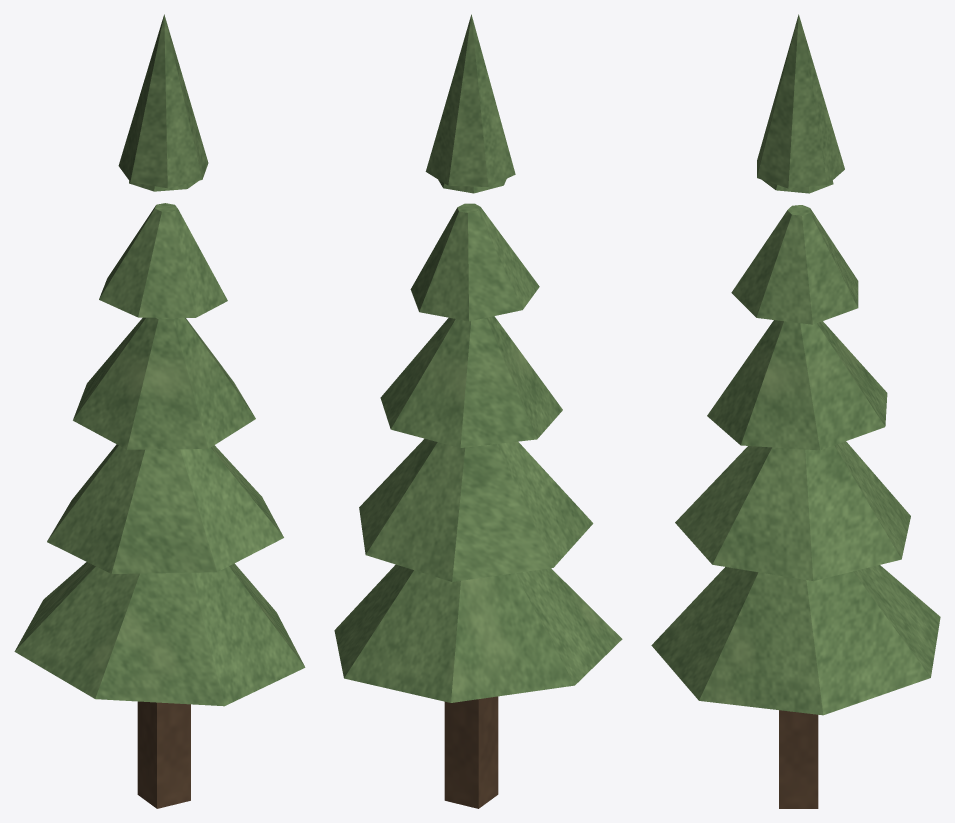
Rendered from pine.glb.
3 views of the same model, side by side, from view 1: azimuth 30°, elevation 25°; view 2: azimuth 150°, elevation 25°; view 3: azimuth 270°, elevation 25° (orthographic).
Visible parts, largest first — view 1: Pine; view 2: Pine; view 3: Pine.
Part boxes in pixels (left/top/right/bottom): Pine: left=14, top=14, right=305, bottom=808; Pine: left=334, top=14, right=622, bottom=808; Pine: left=651, top=14, right=940, bottom=808.
Size of the model in its own units: 0.8155 by 2.43 by 0.8094.
4 materials, 4 textured.
